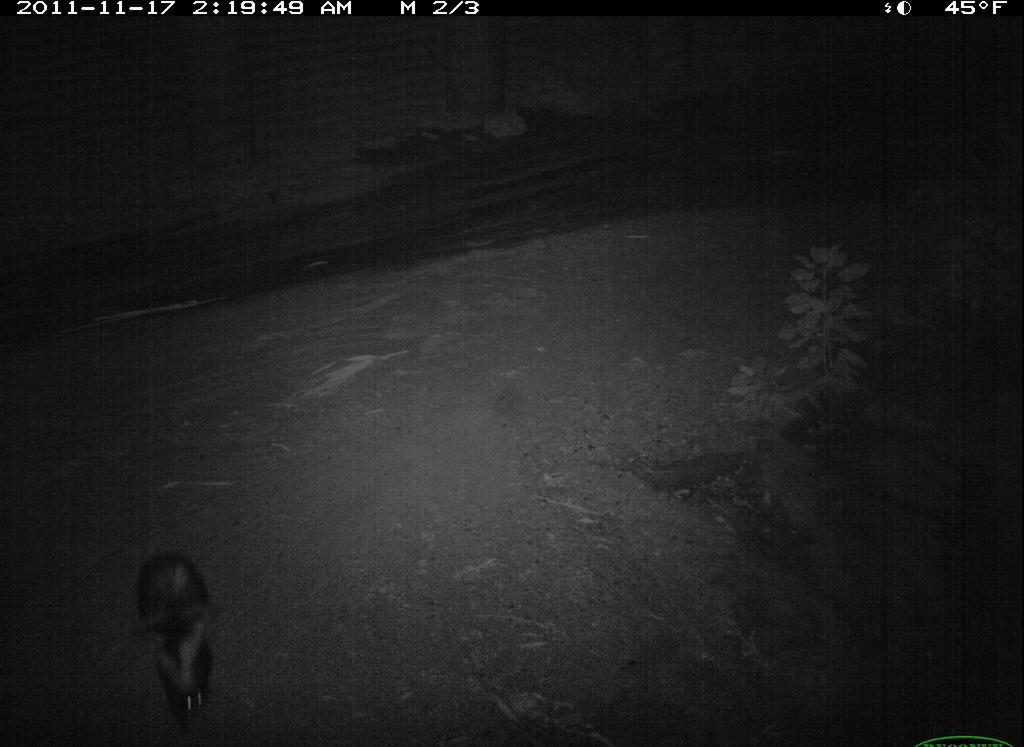skunk: (127, 548, 219, 740)
